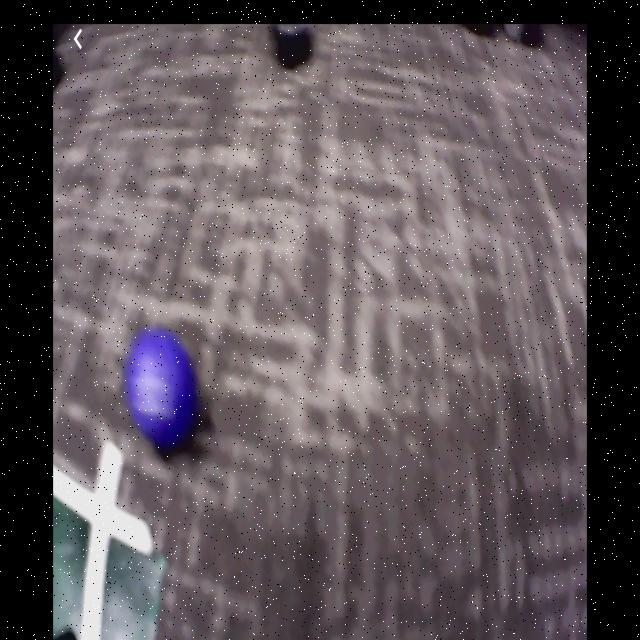ball: (128, 334, 198, 445)
